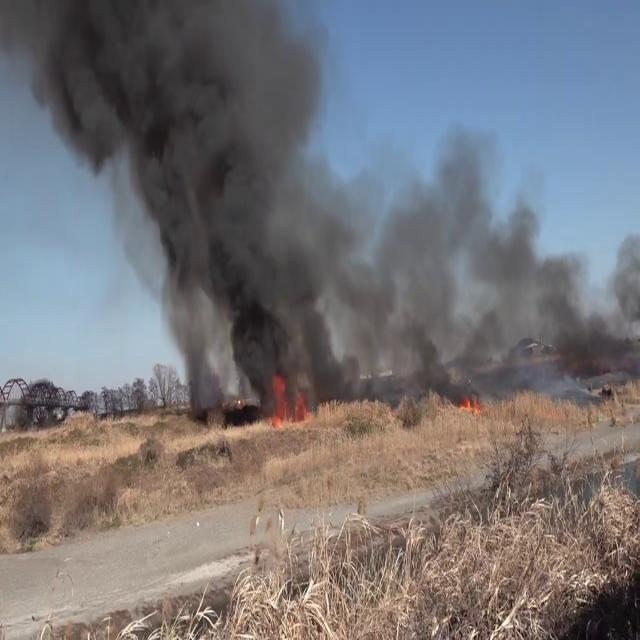Fire: (263, 374, 315, 430)
Smoke: (16, 0, 342, 403), (332, 121, 640, 387)
